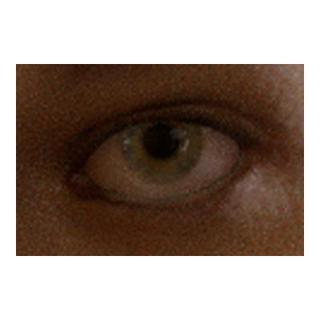pupil: (145, 124, 178, 157)
